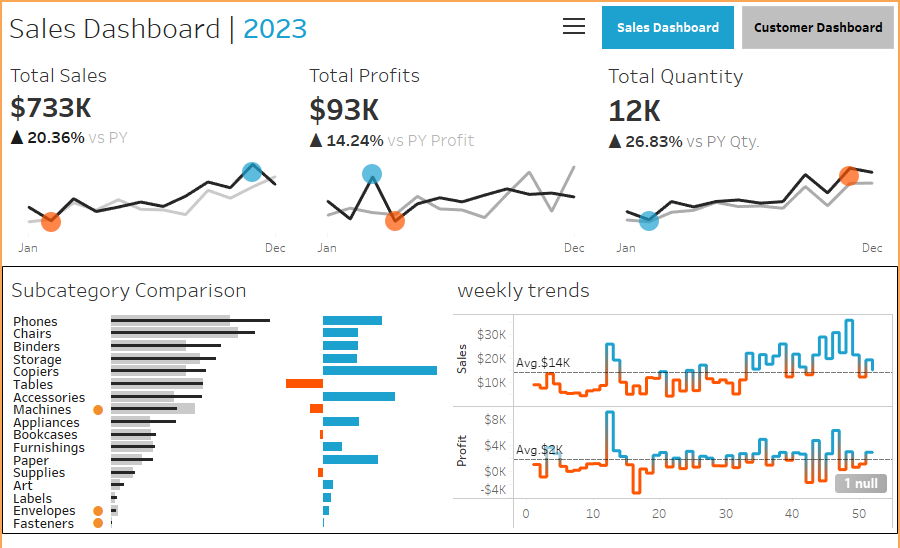

What the dashboard file says about the page in this screenshot:
{"tool":"tableau","page":{"name":"Sales Dashboard","canvas":[900,550],"ordinal":0},"visuals":[{"type":"text","box":[2,2,596,51]},{"type":"dashboard-object","box":[598,2,140,51]},{"type":"dashboard-object","box":[738,2,160,51]},{"type":"dashboard-object","box":[562,14,24,24]},{"type":"parameter","param":"[Parameters].[Parameter 1]","box":[447,23,133,21.1]},{"type":"legend","title":"KPI Sales","param":"[federated.1m076um1r0nr1f16199cq0hacky1].[usr:Calculation_1371346118391226372:qk","box":[447,44.1,133,21.1]},{"type":"worksheet","title":"KPI Sales","mark":"Automatic","rows":["Calculation_1371346118391226372"],"cols":["Order Date"],"box":[2,53,299,213]},{"type":"worksheet","title":"KPI Profit","mark":"Automatic","rows":["Calculation_1371346118576140304"],"cols":["Order Date"],"box":[301,53,299,213]},{"type":"worksheet","title":"KPI Quantity","mark":"Automatic","rows":["Calculation_1371346118597808150"],"cols":["Order Date"],"box":[600,53,298,213]},{"type":"legend","title":"KPI Profit","param":"[federated.1m076um1r0nr1f16199cq0hacky1].[:Measure Names]","box":[447,65.2,133,21.1]},{"type":"legend","title":"KPI Profit","param":"[federated.1m076um1r0nr1f16199cq0hacky1].[usr:Calculation_1371346118576140304:qk","box":[447,86.4,133,21.1]},{"type":"legend","title":"KPI Quantity","param":"[federated.1m076um1r0nr1f16199cq0hacky1].[usr:Calculation_1371346118597808150:qk","box":[447,107.5,133,21.1]},{"type":"legend","title":"Subcategory Comparison","param":"[federated.1m076um1r0nr1f16199cq0hacky1].[sum:Calculation_1371346118427660298:qk","box":[447,128.6,133,21.1]},{"type":"legend","title":"weekly trends","param":"[federated.1m076um1r0nr1f16199cq0hacky1].[usr:Calculation_1371346118632914970:nk","box":[447,149.7,133,21.1]},{"type":"legend","title":"weekly trends","param":"[federated.1m076um1r0nr1f16199cq0hacky1].[usr:KPI Sales Avg (copy)_1371346118634","box":[447,170.8,133,21.2]},{"type":"worksheet","title":"Subcategory Comparison","mark":"Bar","rows":["Sub-Category","Calculation_1371346118614065177"],"cols":["CY Sales (copy)_1371346118382530561","Calculation_1371346118382010368","Calculation_1371346118427660298"],"box":[3,267,446,266]},{"type":"worksheet","title":"weekly trends","mark":"Automatic","rows":["Calculation_1371346118382010368","Calculation_1371346118427660298"],"cols":["Order Date"],"box":[449,267,448,266]}]}

Visuals, with their boxes in screenshot pixels (x1, y1, x2, y2), scaled from the page's 900x550 canvas onto the 900x548 screenshot:
text: BBox(2, 2, 598, 53)
dashboard-object: BBox(598, 2, 738, 53)
dashboard-object: BBox(738, 2, 898, 53)
dashboard-object: BBox(562, 14, 586, 38)
parameter: BBox(447, 23, 580, 44)
"KPI Sales" legend: BBox(447, 44, 580, 65)
"KPI Sales" worksheet: BBox(2, 53, 301, 265)
"KPI Profit" worksheet: BBox(301, 53, 600, 265)
"KPI Quantity" worksheet: BBox(600, 53, 898, 265)
"KPI Profit" legend: BBox(447, 65, 580, 86)
"KPI Profit" legend: BBox(447, 86, 580, 107)
"KPI Quantity" legend: BBox(447, 107, 580, 128)
"Subcategory Comparison" legend: BBox(447, 128, 580, 149)
"weekly trends" legend: BBox(447, 149, 580, 170)
"weekly trends" legend: BBox(447, 170, 580, 191)
"Subcategory Comparison" worksheet (Bar marks): BBox(3, 266, 449, 531)
"weekly trends" worksheet: BBox(449, 266, 897, 531)
